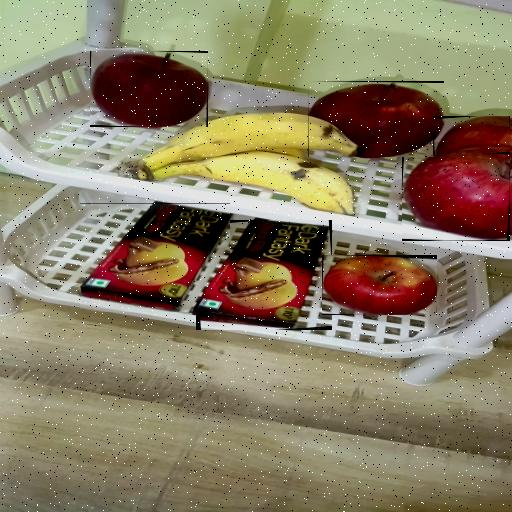Apple: (308, 81, 444, 157), (402, 149, 510, 241), (90, 51, 208, 127), (322, 255, 437, 315), (433, 116, 510, 154)
Choco Fills: (80, 203, 230, 312), (196, 220, 332, 330)
